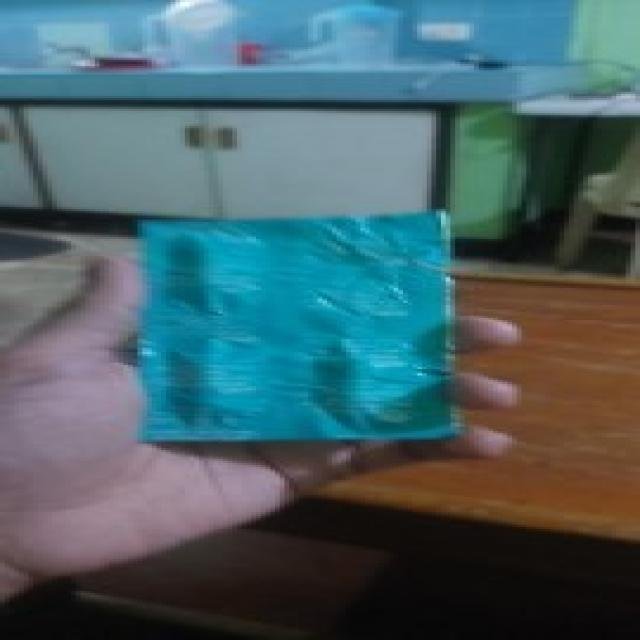Cacat: (140, 206, 458, 444)
